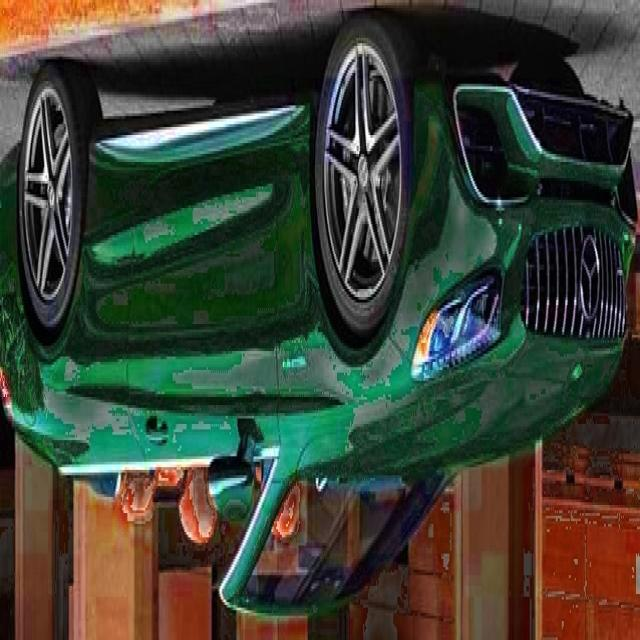green: (0, 15, 636, 609)
